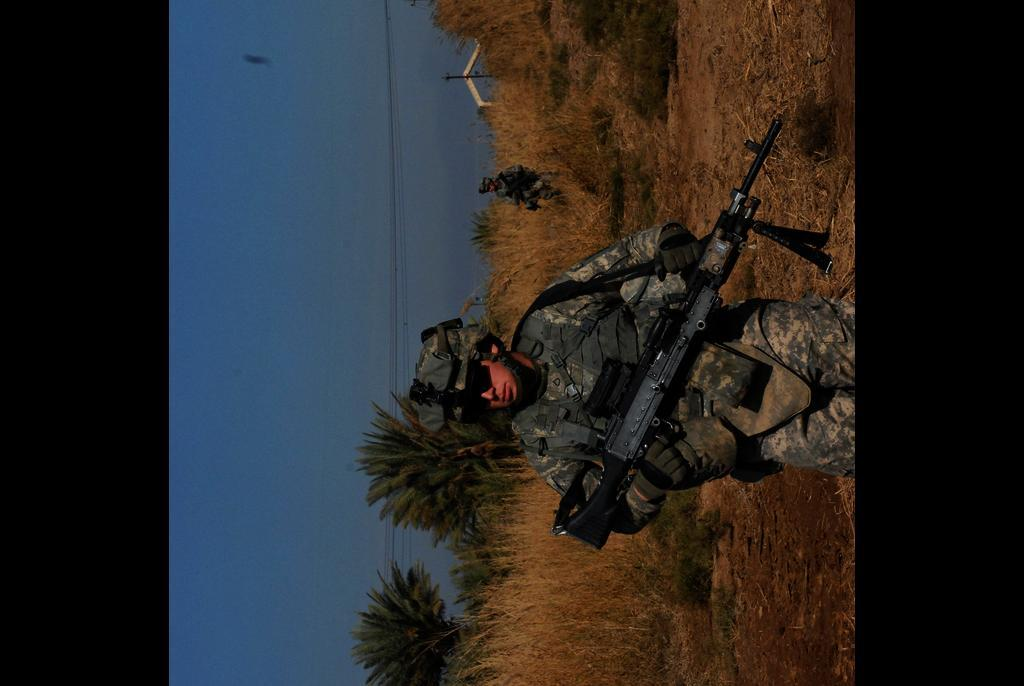gun: (553, 118, 831, 548)
